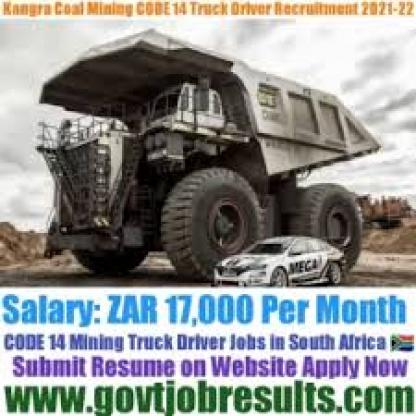dump_truck: (26, 33, 401, 270)
